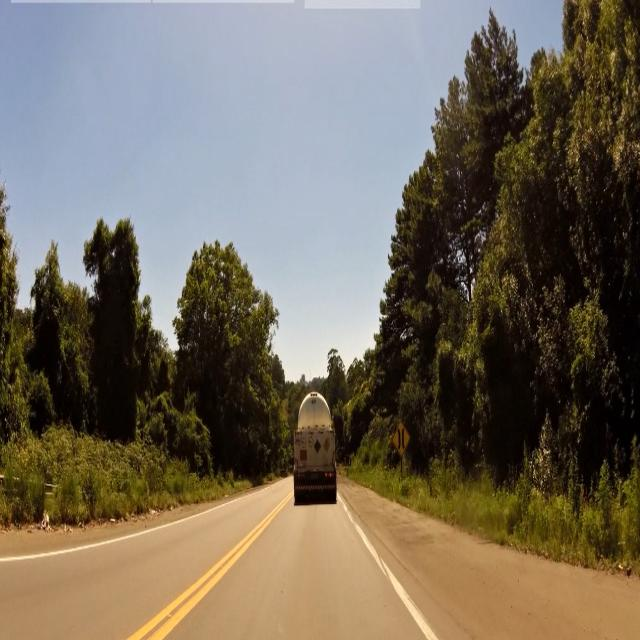A-22: (392, 422, 410, 456)
